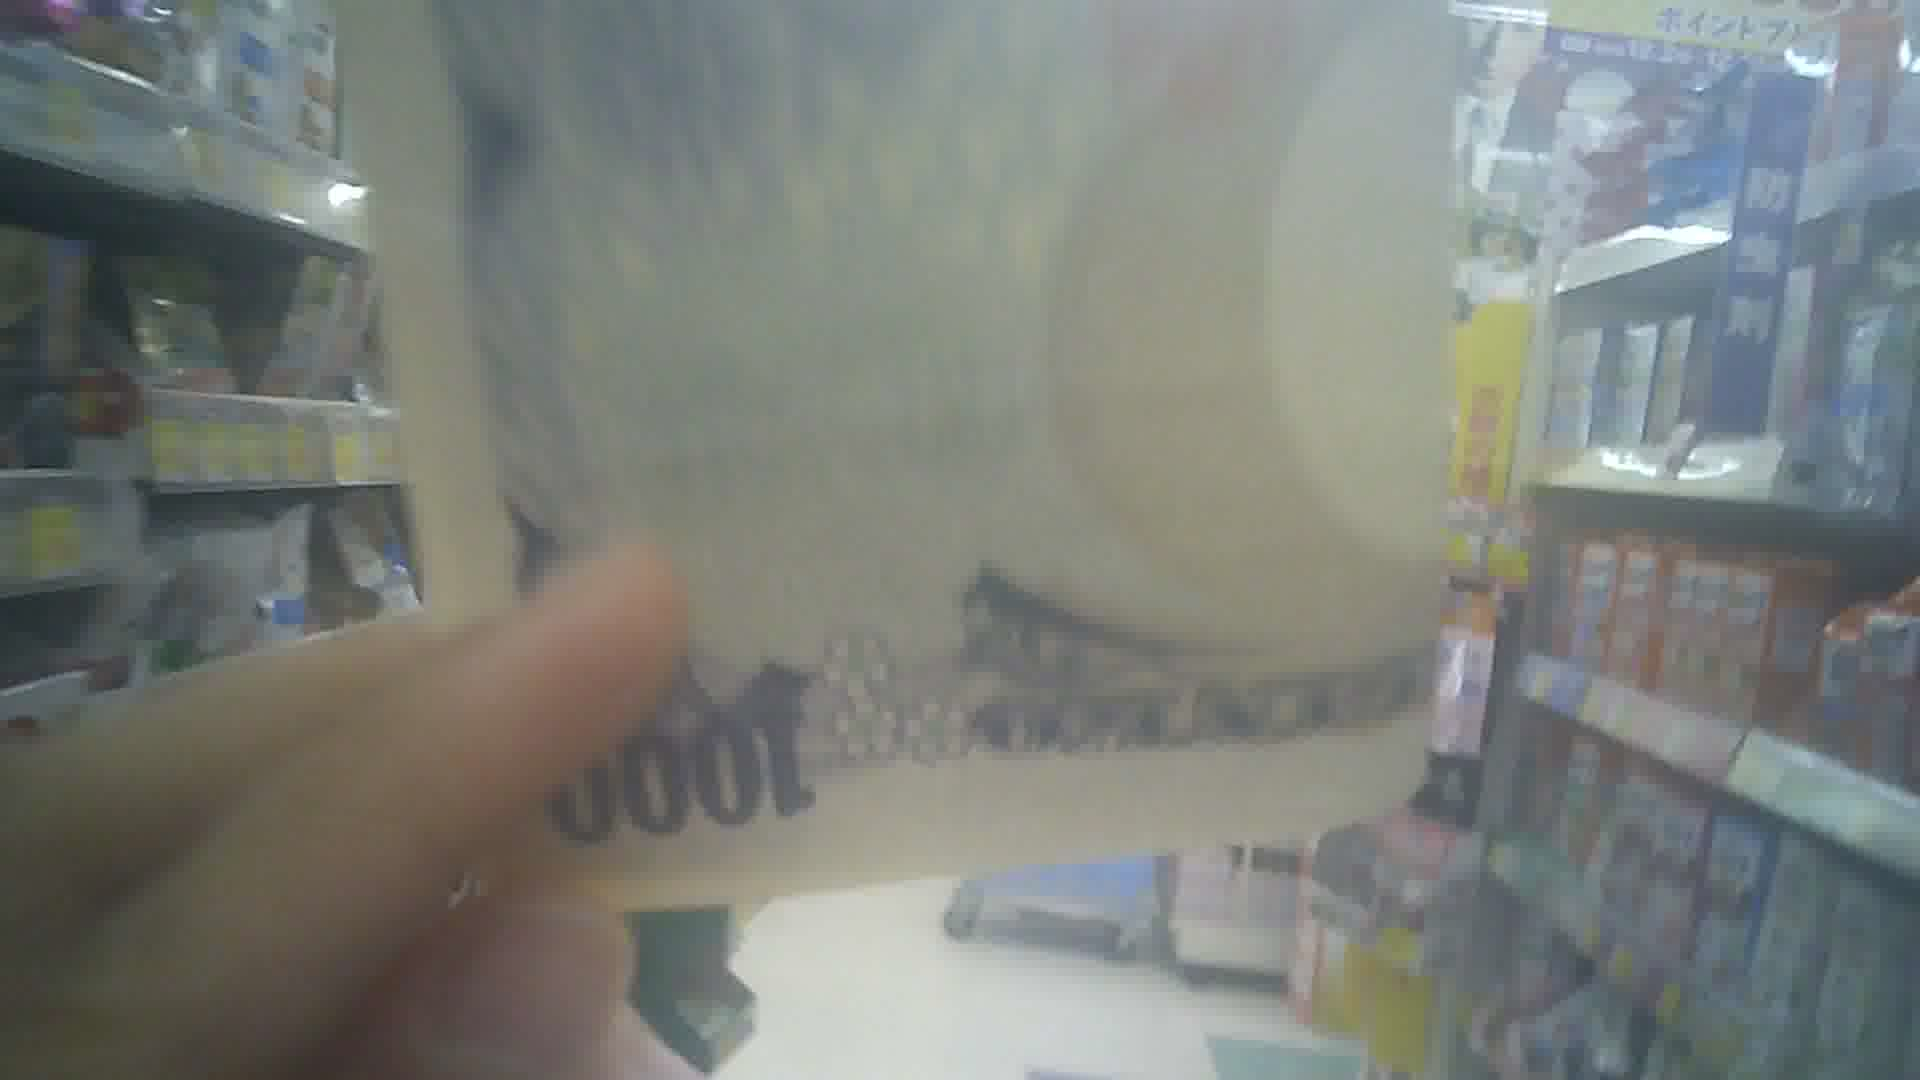1,000 Yen: (332, 5, 1458, 893)
